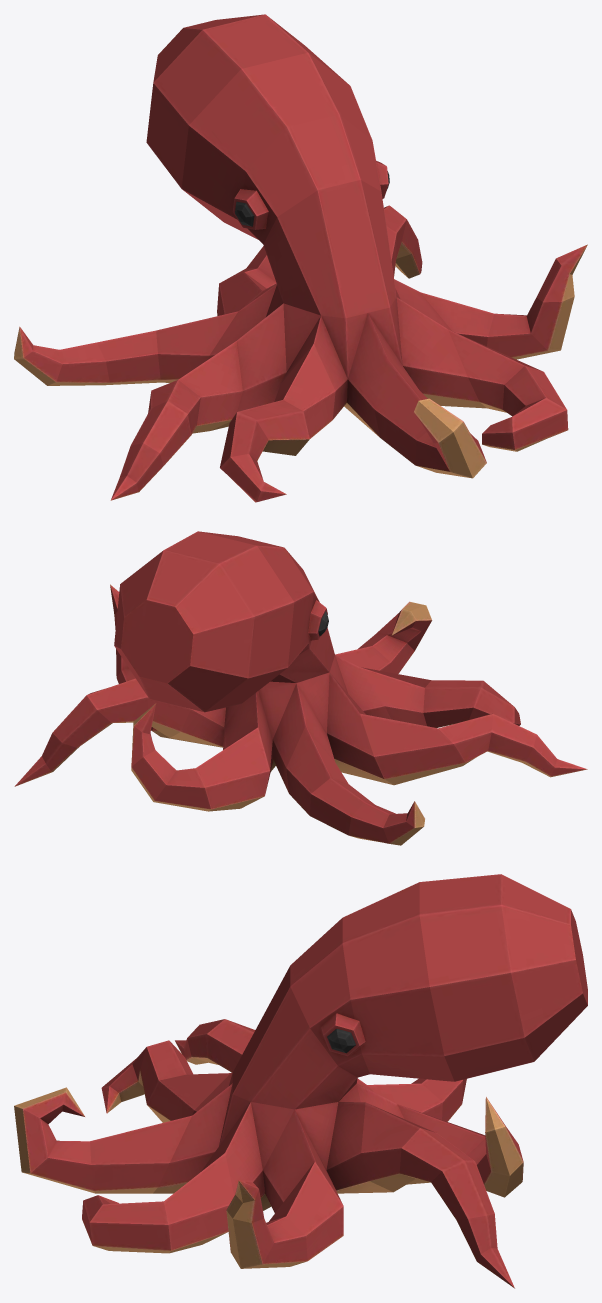
File: prop_pz_octopus.glb
The picture shows the model from 3 angles, top to bottom: view 1: azimuth 30°, elevation 25°; view 2: azimuth 150°, elevation 25°; view 3: azimuth 270°, elevation 25°; orthographic projection. The views are drawn at different scales.
Visible parts, largest first — view 1: Octopus_mesh; view 2: Octopus_mesh; view 3: Octopus_mesh.
Boxes of the visible parts, bbox=[...] form: Octopus_mesh: bbox=[14, 14, 587, 502]; Octopus_mesh: bbox=[14, 531, 587, 845]; Octopus_mesh: bbox=[14, 874, 587, 1288].
Bounding box in the file's own units: 17.74 × 10.08 × 17.24.
Materials: 1 (1 with a texture image).
